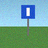sign: (21, 5, 35, 35)
